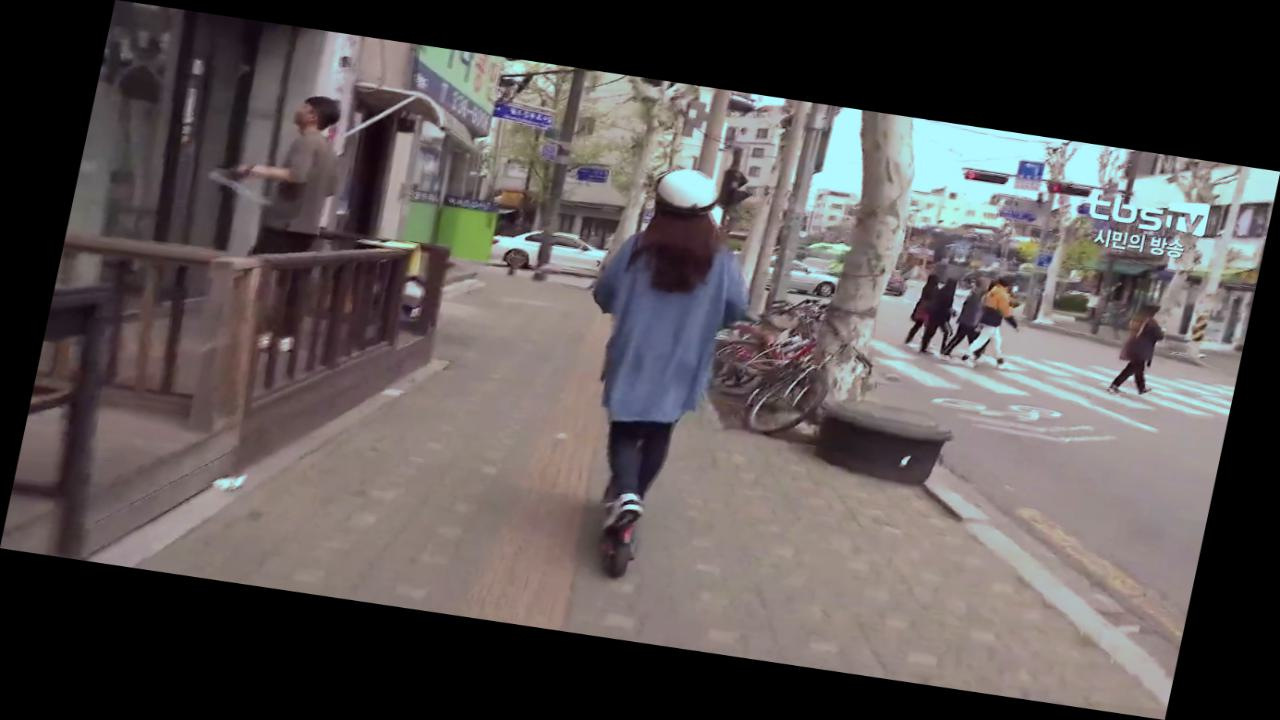helmet: (530, 158, 779, 589)
